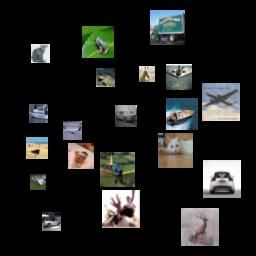airplane: (202, 83, 240, 121), (100, 152, 135, 187), (166, 64, 192, 90), (63, 121, 82, 140)
automobile: (203, 160, 241, 198), (115, 105, 137, 127), (42, 212, 61, 231), (30, 174, 46, 190)
bird: (26, 137, 48, 159)
cat: (158, 133, 193, 168), (31, 44, 50, 63)
deer: (181, 208, 219, 246), (102, 190, 140, 228)
dog: (68, 143, 94, 169)
frog: (82, 26, 114, 58), (96, 68, 115, 87)
ship: (166, 98, 198, 130), (29, 104, 48, 123)
truck: (150, 10, 185, 45)
